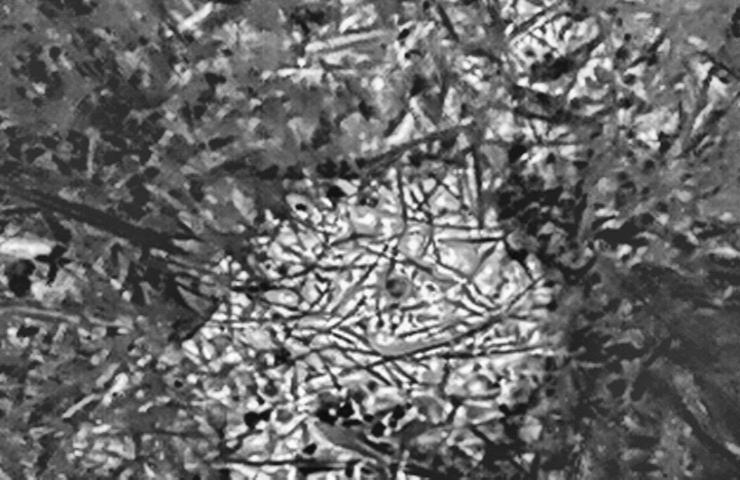landmines: (224, 158, 568, 452)
